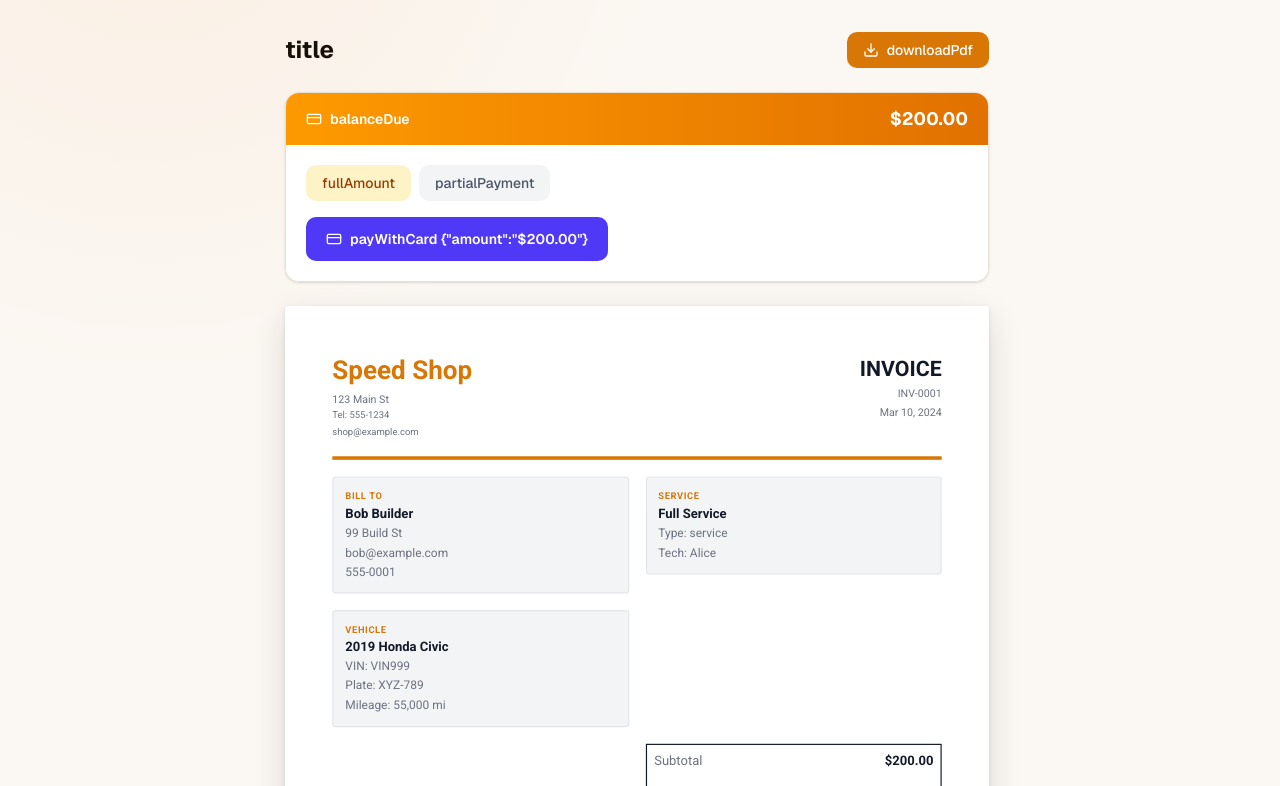
Scenario: InvoiceView › payment section › shows payment error when checkout fails
Click the button "payWithCard {\"amount\":\"$200.00\"}" at (457, 239), box [306, 217, 608, 261]
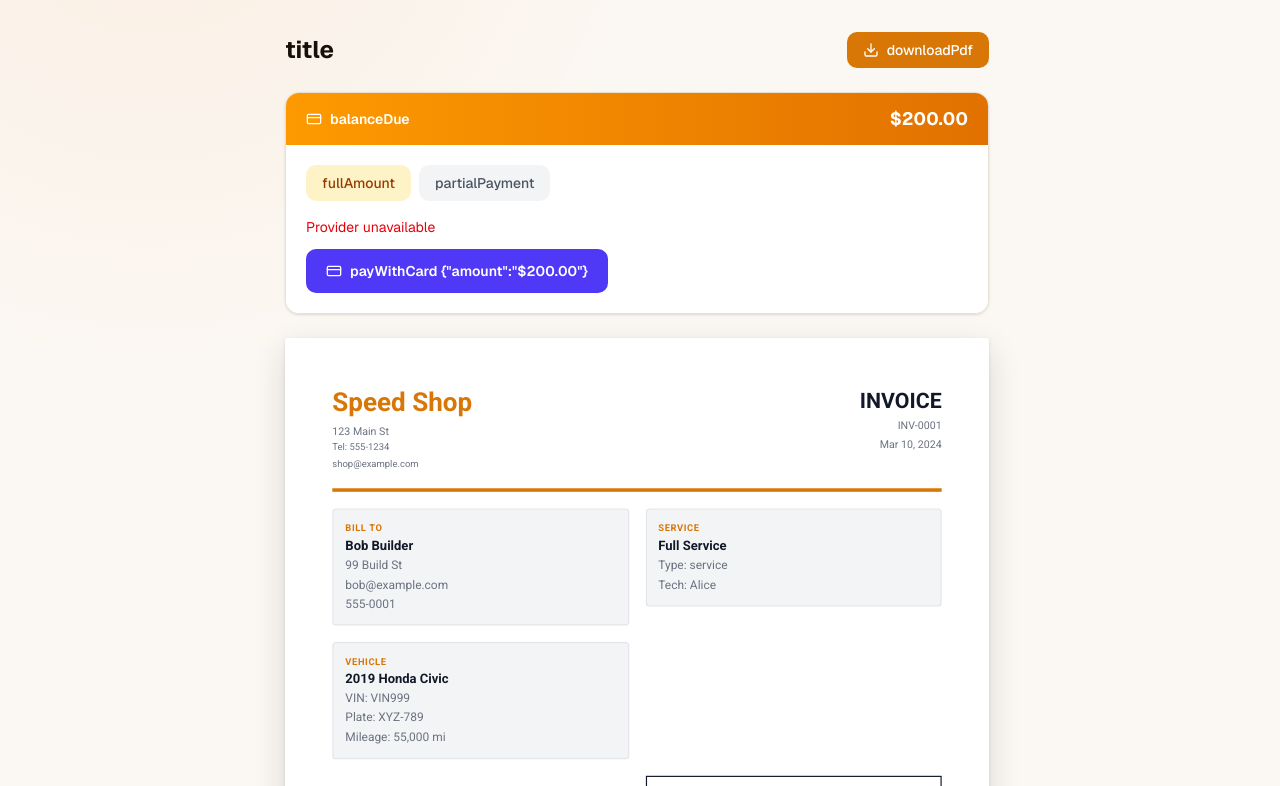
Result: the text "Provider unavailable" is shown at [306, 218, 435, 236]
